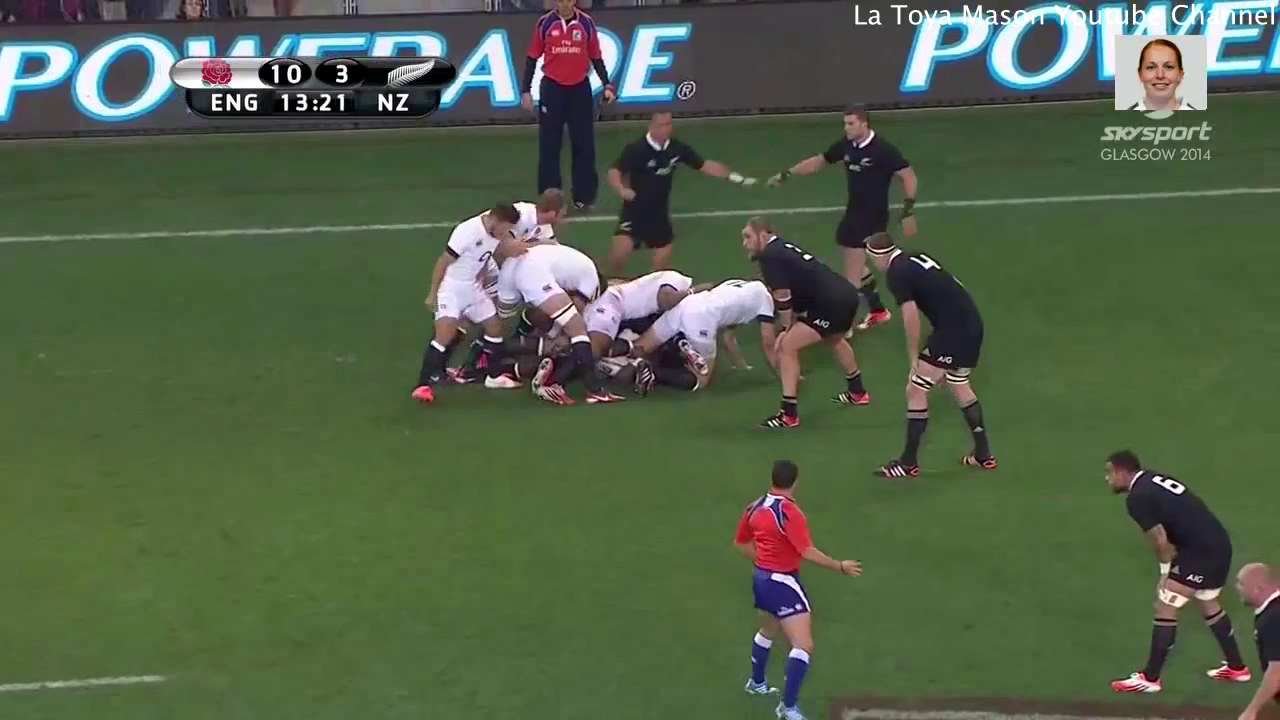player: (1090, 446, 1258, 693), (858, 226, 1007, 485), (727, 455, 859, 720), (733, 220, 879, 433), (410, 198, 522, 404), (779, 106, 931, 255), (599, 97, 714, 267), (499, 235, 591, 364)
ruck: (477, 216, 792, 400)
